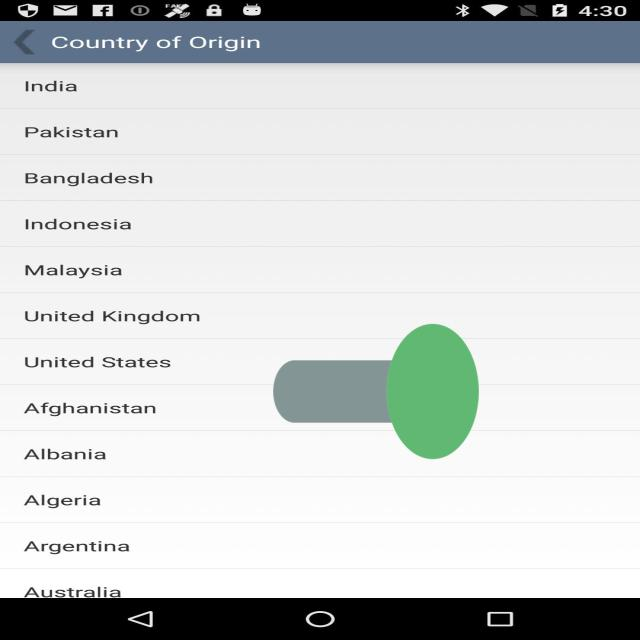social proof: (273, 241, 479, 542)
